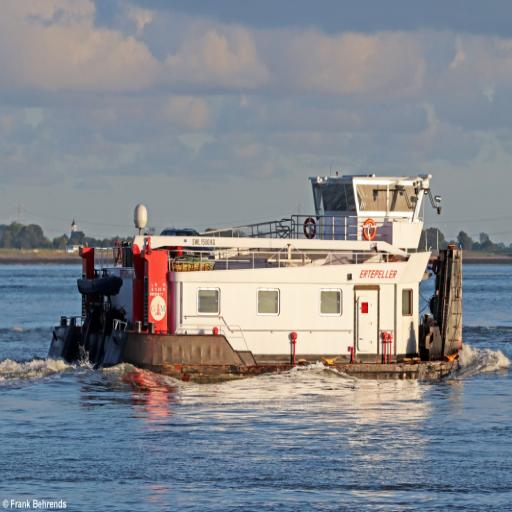tugboat: (48, 165, 465, 398)
